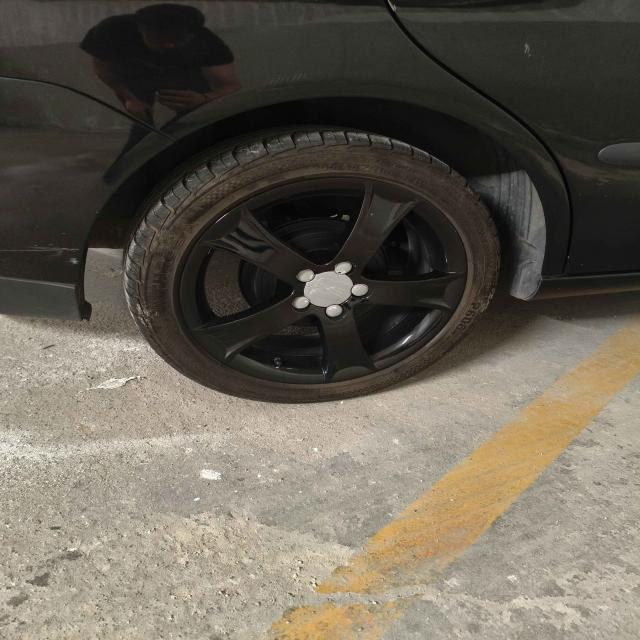jante: (173, 176, 469, 385)
parafuso: (294, 269, 316, 283), (350, 282, 370, 297), (290, 296, 311, 310), (334, 260, 354, 274), (325, 305, 344, 318)
roda: (122, 127, 504, 404)
